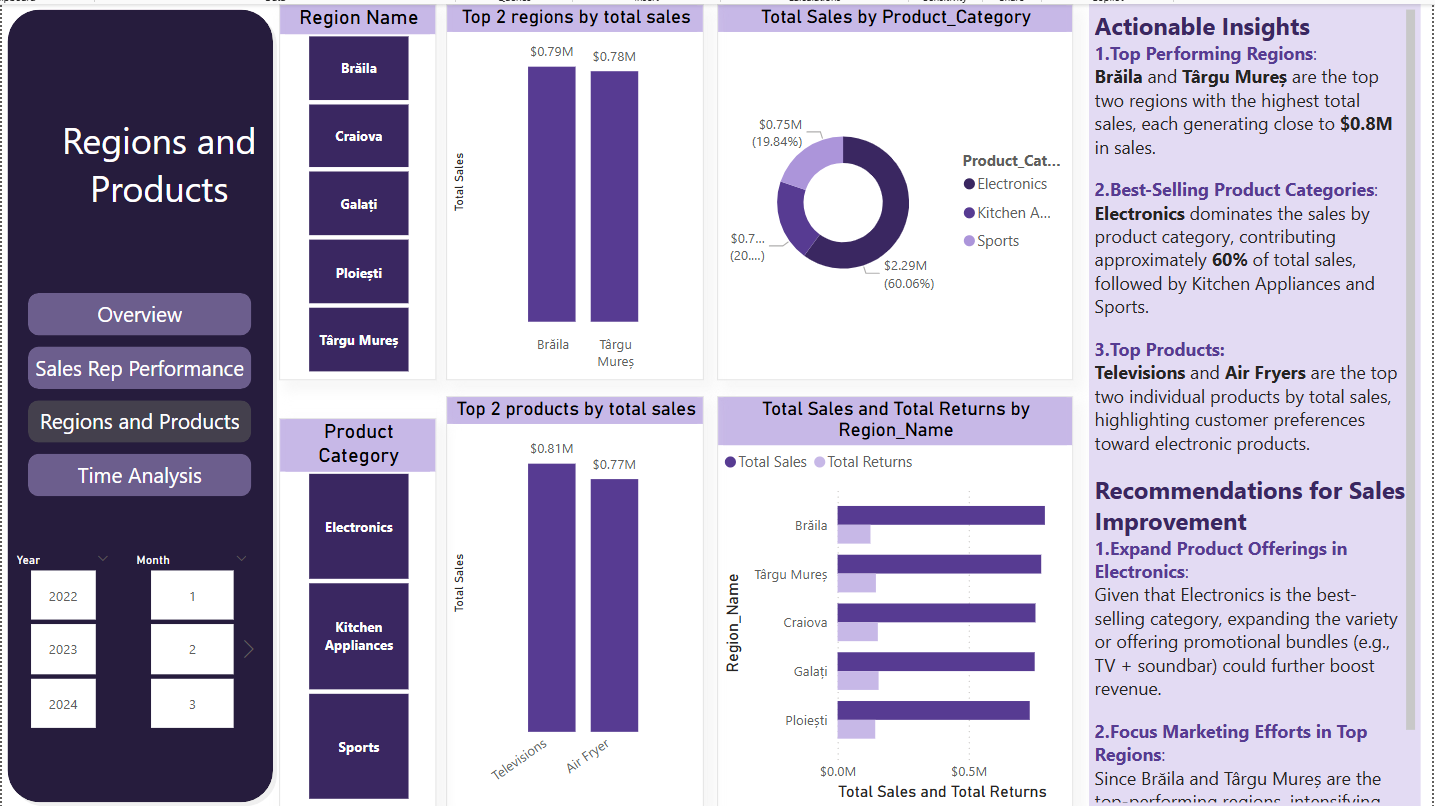

Layout of this report page (visuals, bound fields, positions):
{"tool":"powerbi","page":{"name":"Regions and Products","canvas":[1280,720],"ordinal":2},"visuals":[{"type":"slicer","title":"Region Name","fields":{"Values":["Regions.Region_Name"]},"box":[247.8,0,141.1,336.7],"z":0},{"type":"donutChart","fields":{"Y":["Orders.Total Sales"],"Category":["Products.Product_Category"]},"box":[640,0,318.9,336.7],"z":1000},{"type":"clusteredBarChart","fields":{"Y":["Orders.Total Sales","Orders.Total Returns"],"Category":["Regions.Region_Name"]},"box":[640,351.1,318.9,368.9],"z":2000},{"type":"columnChart","title":"Top 2 regions by total sales ","fields":{"Category":["Regions.Region_Name"],"Y":["Orders.Total Sales"]},"box":[397.8,0,231.1,336.7],"z":3000},{"type":"columnChart","title":"Top 2 products by total sales ","fields":{"Category":["Products.Product_Name"],"Y":["Orders.Total Sales"]},"box":[397.8,351.1,231.1,368.9],"z":4000},{"type":"slicer","title":"Product Category","fields":{"Values":["Products.Product_Category"]},"box":[247.8,371.1,141.1,348.9],"z":5000},{"type":"shape","box":[0,0,247.8,720],"z":6000},{"type":"pageNavigator","box":[23.3,258.9,200,184.4],"z":7000},{"type":"textbox","box":[34.4,94.4,213.3,113.3],"z":8000},{"type":"slicer","fields":{"Values":["Orders.Year"]},"box":[0,486.7,107.8,168.9],"z":9000},{"type":"slicer","fields":{"Values":["Orders.Month"]},"box":[107.8,486.7,124.4,168.9],"z":10000},{"type":"textbox","box":[973.3,0,296.7,720],"z":11000}]}

Visuals, with their boxes on the page's 1280x720 design canvas (x1, y1, x2, y2). These are canvas units, not pixel positions in the 1435x806 screenshot, which may show the page scaled, cropped or inside an application window:
"Region Name" slicer: locate(248, 0, 389, 337)
donutChart - Orders.Total Sales x Products.Product_Category: locate(640, 0, 959, 337)
clusteredBarChart - Orders.Total Sales x Orders.Total Returns: locate(640, 351, 959, 720)
"Top 2 regions by total sales " columnChart: locate(398, 0, 629, 337)
"Top 2 products by total sales " columnChart: locate(398, 351, 629, 720)
"Product Category" slicer: locate(248, 371, 389, 720)
shape: locate(0, 0, 248, 720)
pageNavigator: locate(23, 259, 223, 443)
textbox: locate(34, 94, 248, 208)
slicer - Orders.Year: locate(0, 487, 108, 656)
slicer - Orders.Month: locate(108, 487, 232, 656)
textbox: locate(973, 0, 1270, 720)
